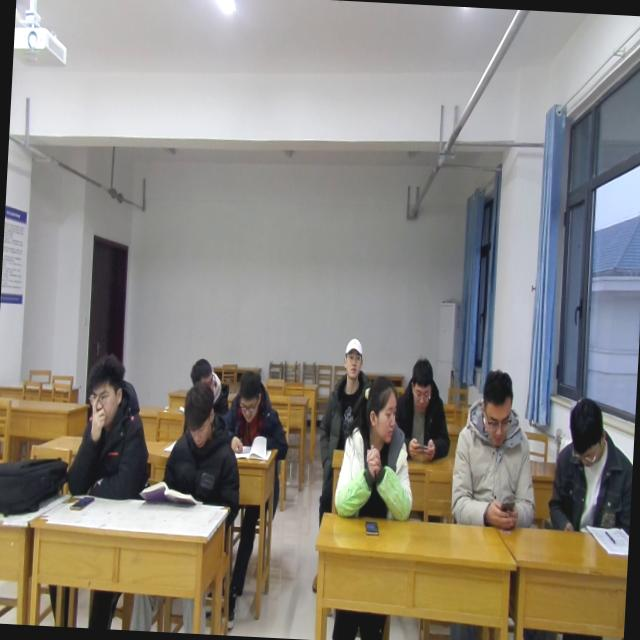down: (476, 364, 518, 450), (564, 390, 610, 468), (82, 351, 126, 431), (178, 382, 220, 457), (236, 366, 266, 428), (406, 354, 436, 416), (186, 355, 217, 393)
lookup: (340, 333, 366, 382)
sit: (450, 366, 541, 526), (332, 378, 420, 522), (64, 362, 152, 503), (550, 388, 636, 532), (158, 384, 243, 508), (393, 351, 458, 462), (222, 370, 294, 467), (324, 334, 374, 447), (182, 356, 240, 426)
